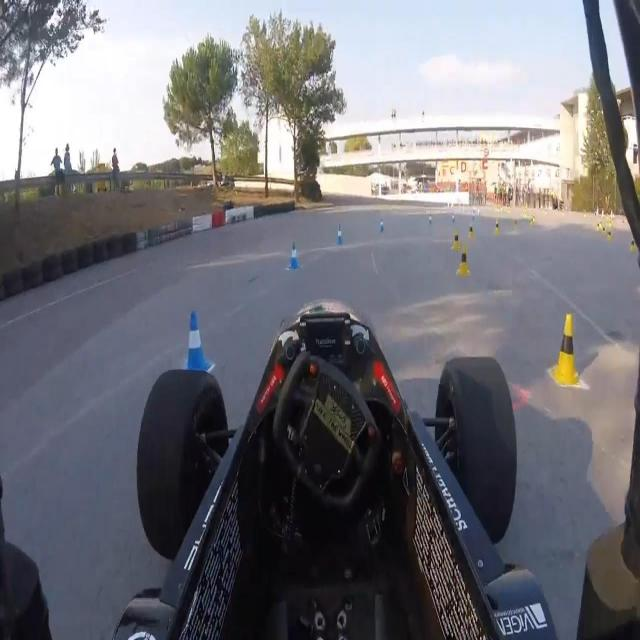blue_cone: (185, 309, 208, 373), (289, 242, 298, 270), (336, 223, 343, 245), (380, 218, 384, 234), (428, 212, 432, 228), (452, 212, 456, 226)
yellow_cone: (554, 311, 578, 386), (458, 245, 469, 278), (628, 231, 636, 253), (512, 214, 519, 233), (453, 230, 459, 251), (467, 223, 474, 240), (494, 219, 500, 235), (607, 226, 612, 244), (602, 223, 606, 240)
